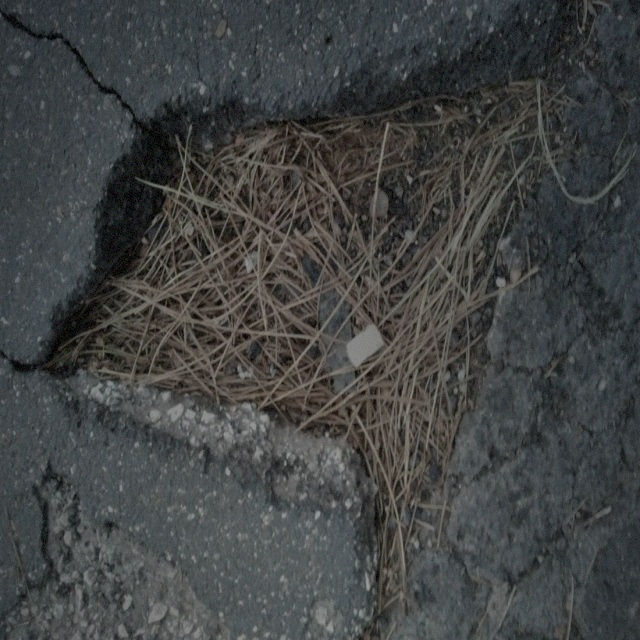pothole: (41, 37, 583, 546)
